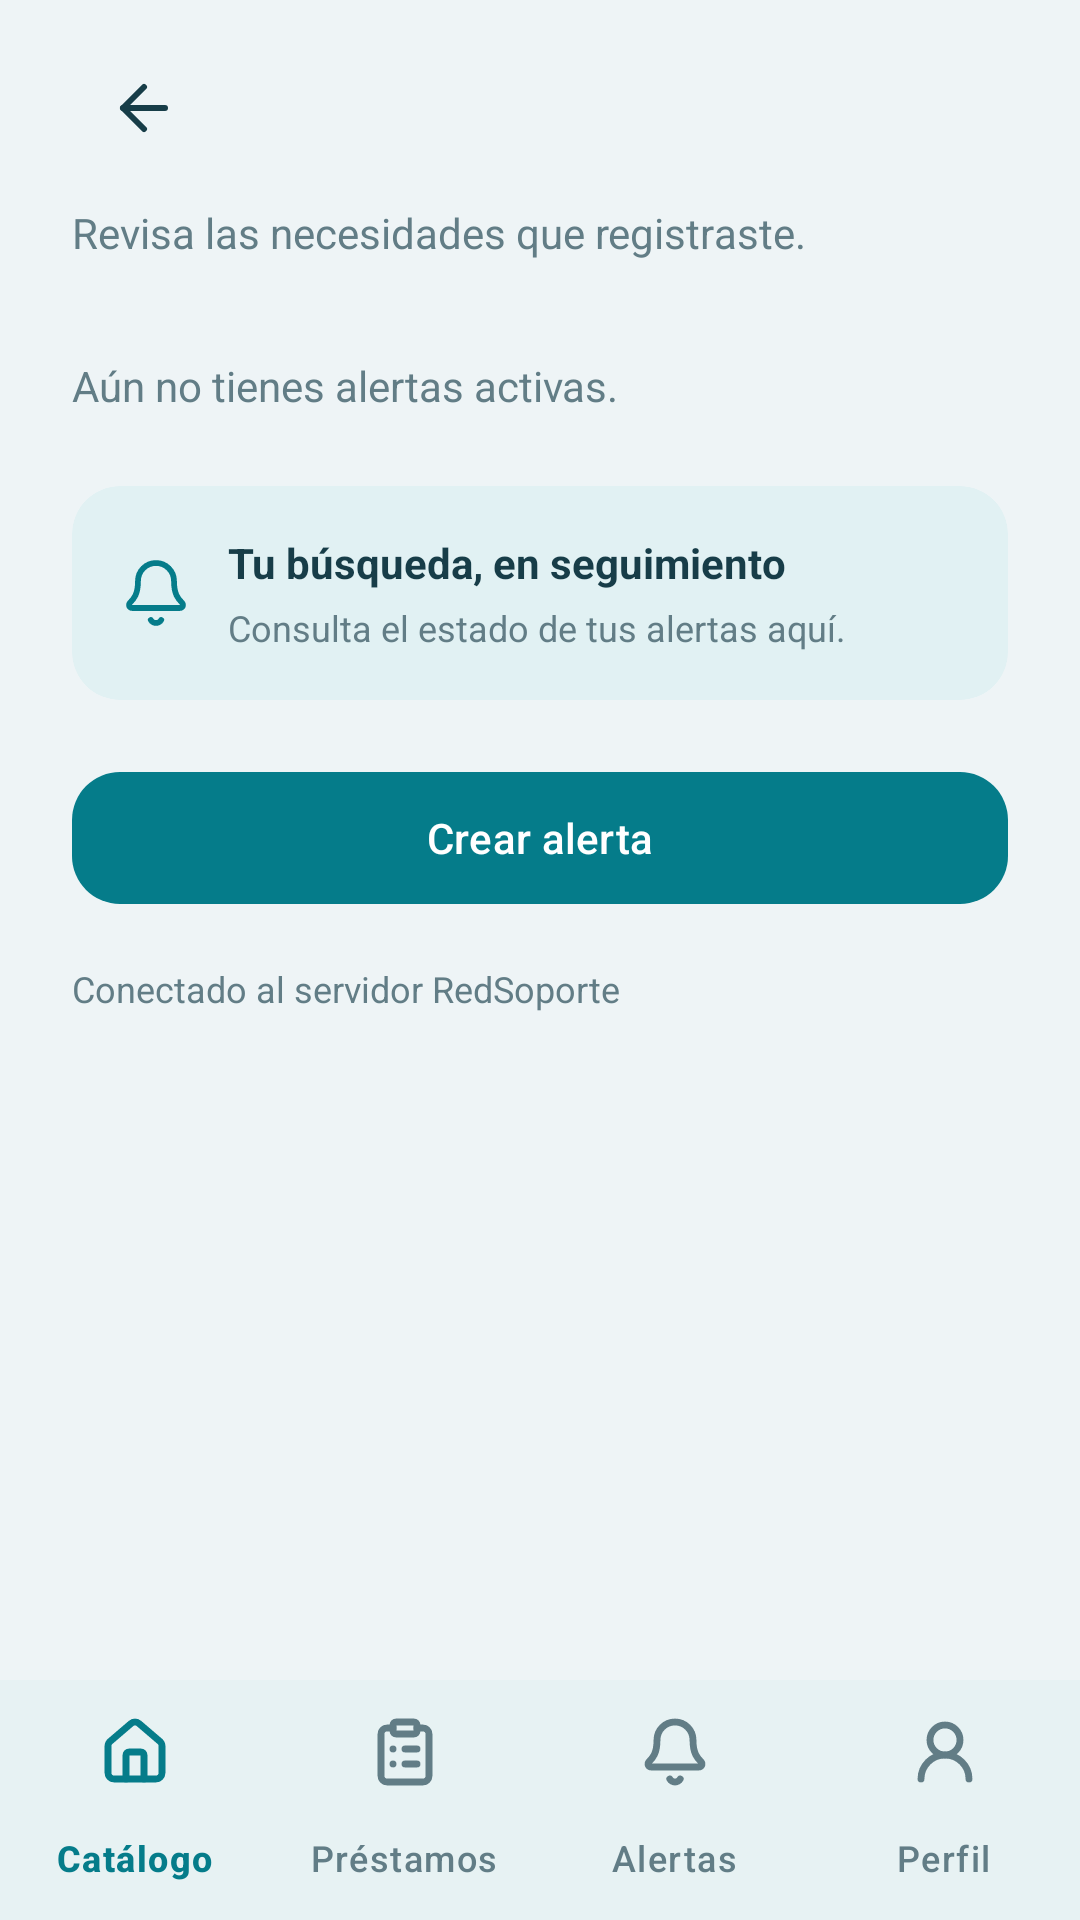

Icon bounding boxes for this 1080w x 1920h phone screenshot, format detection(x1, y1, x2, y2):
extra bell: detection(126, 560, 186, 626)
Volver: detection(120, 84, 168, 132)
